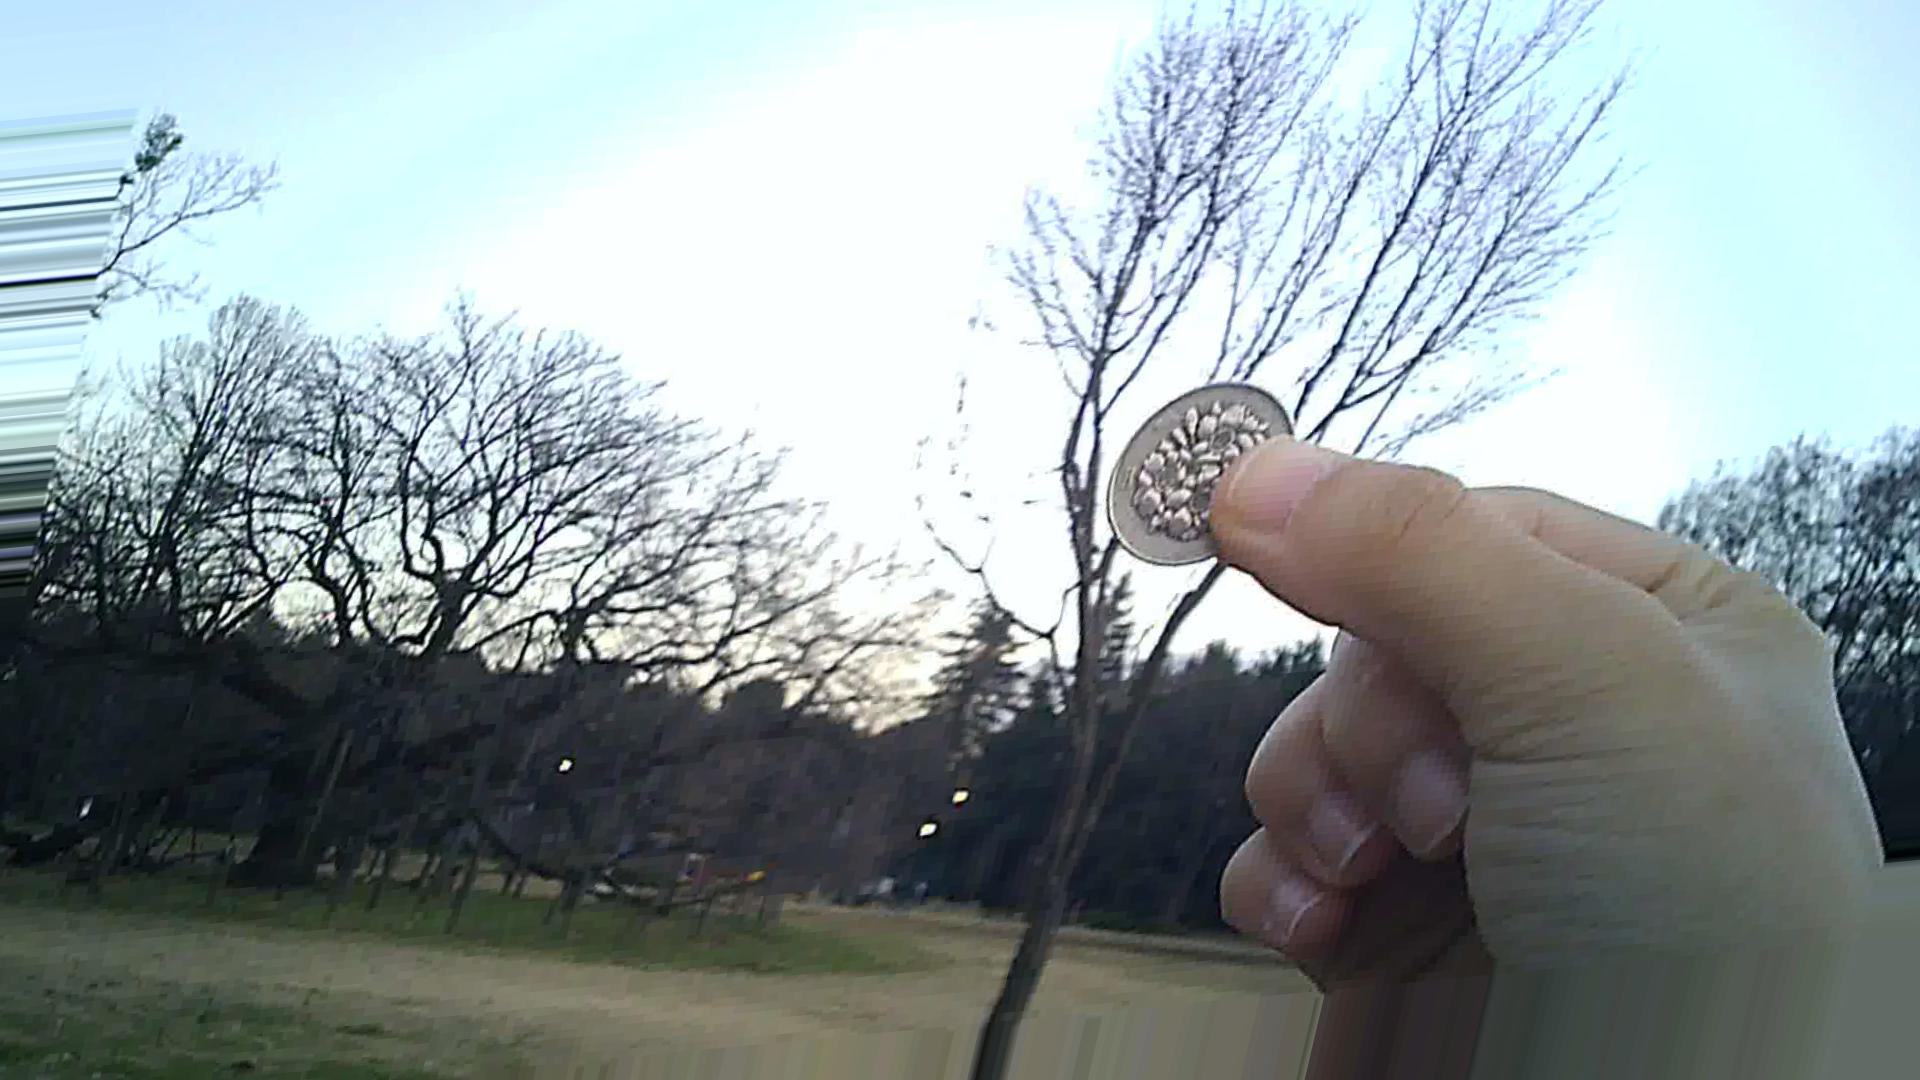100 Yen: (1095, 386, 1298, 578)
